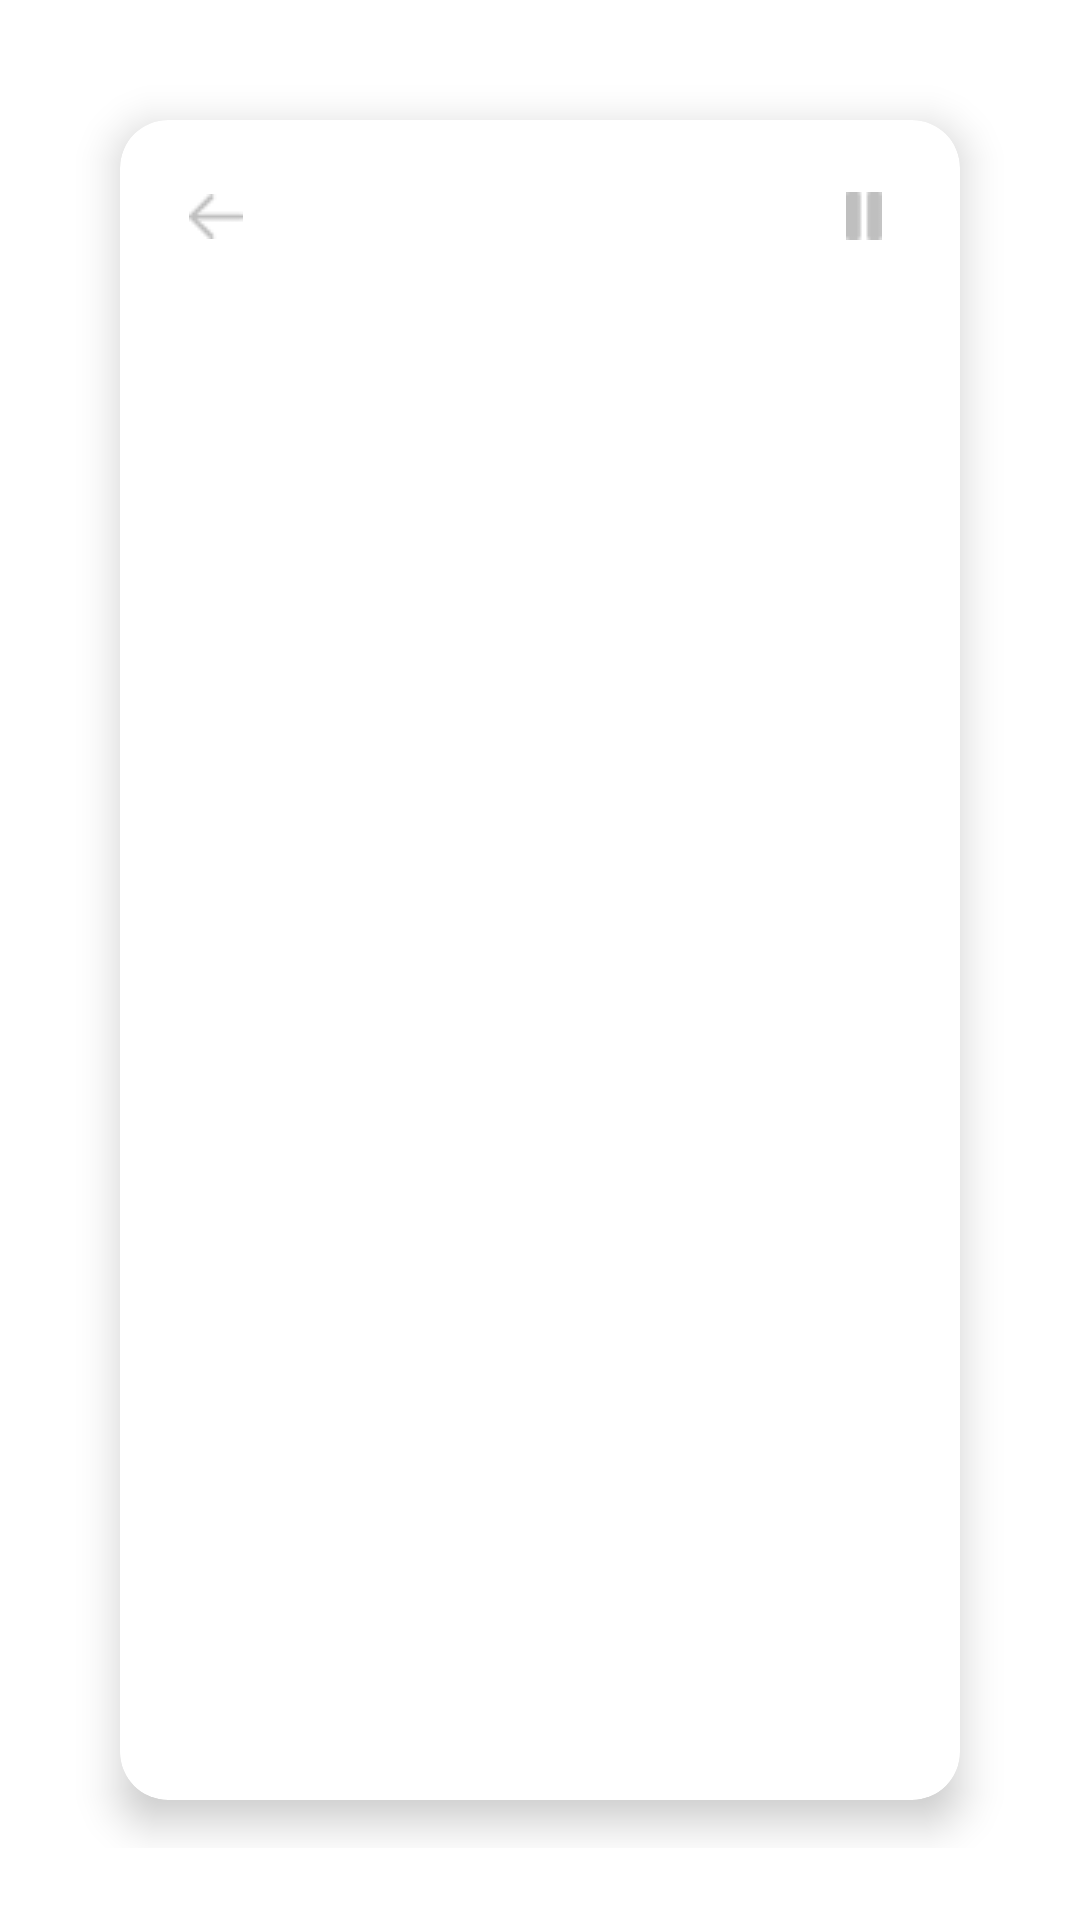

Icon click points for this 1080px×1920px phone screenshot, format [x,y]:
Back: [216,216]
Pause: [864,216]
